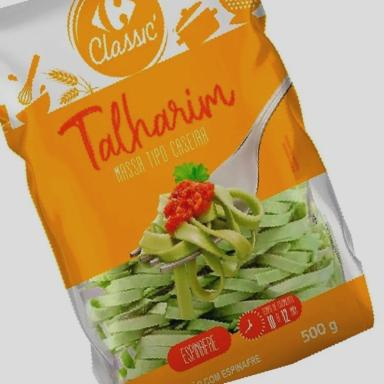pasta package: (0, 0, 373, 383)
